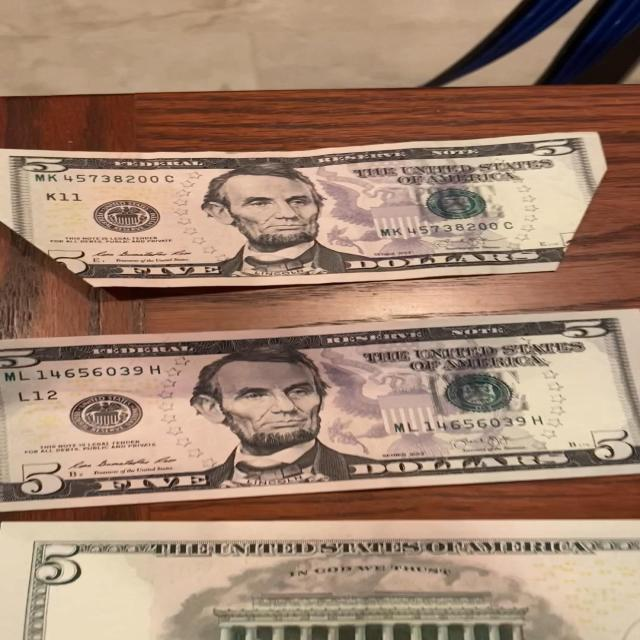5-Back: (0, 519, 640, 640)
5-Front: (0, 307, 640, 514), (0, 133, 610, 297)
